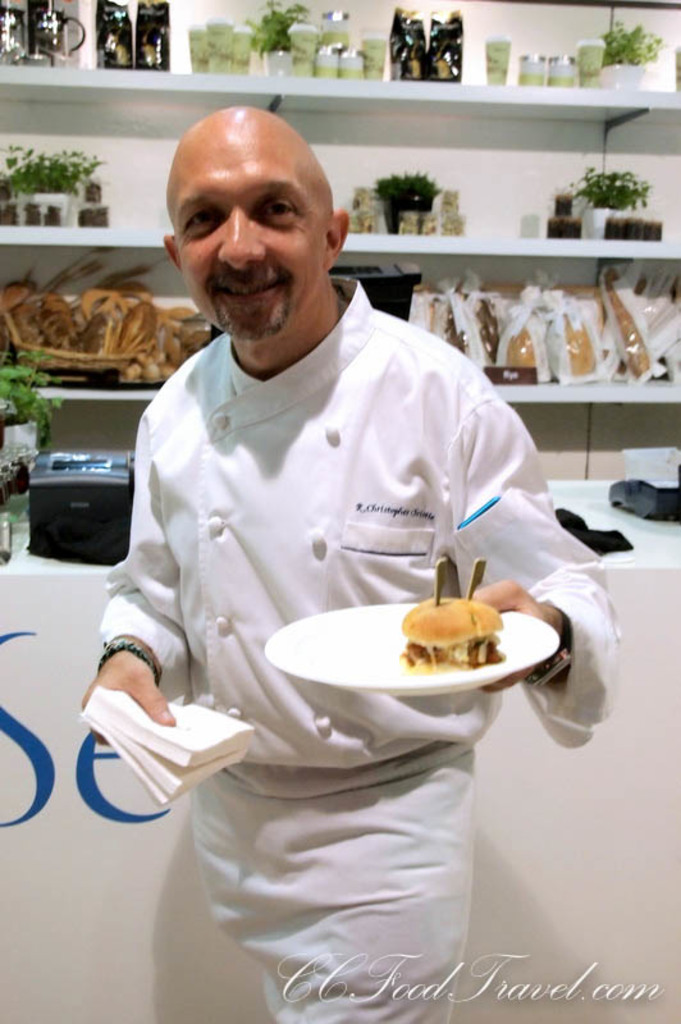Hamburger: (399, 597, 506, 672)
